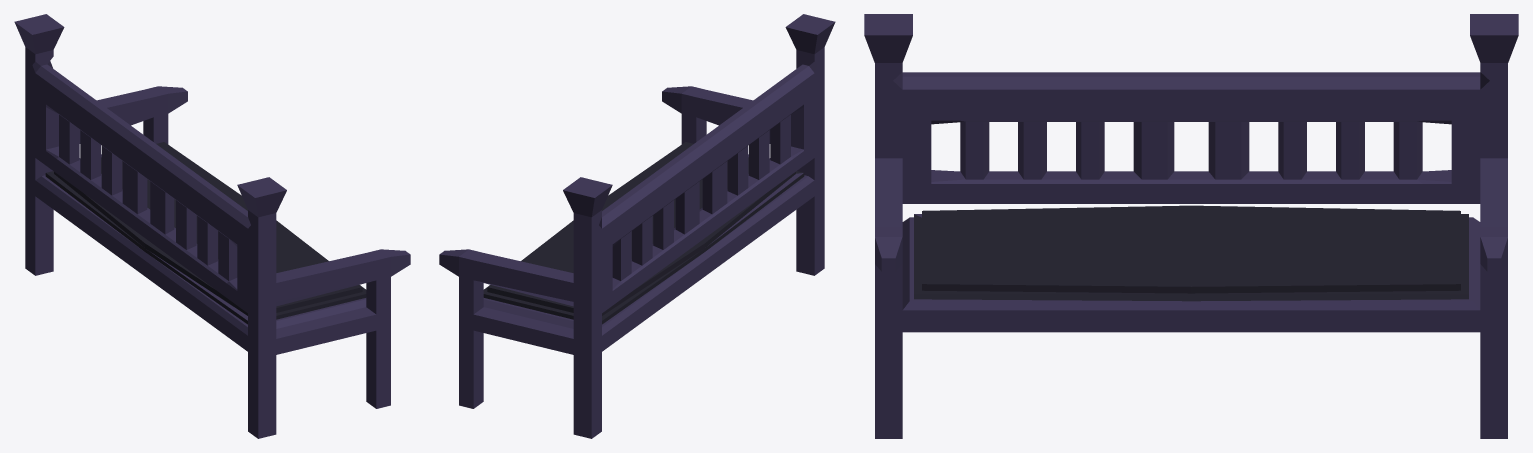
The model's file is Bench.fbx.
The picture shows the model from 3 angles, left to right: view 1: azimuth 30°, elevation 25°; view 2: azimuth 150°, elevation 25°; view 3: azimuth 270°, elevation 25°; orthographic projection. The views are drawn at different scales.
Visible parts, largest first — view 1: Bench; view 2: Bench; view 3: Bench.
Part boxes in pixels (<box>): Bench: <box>14,14,410,438</box>; Bench: <box>439,14,835,438</box>; Bench: <box>864,14,1518,438</box>.
Size of the model in its own units: 0.8767 by 1.27 by 2.26.
